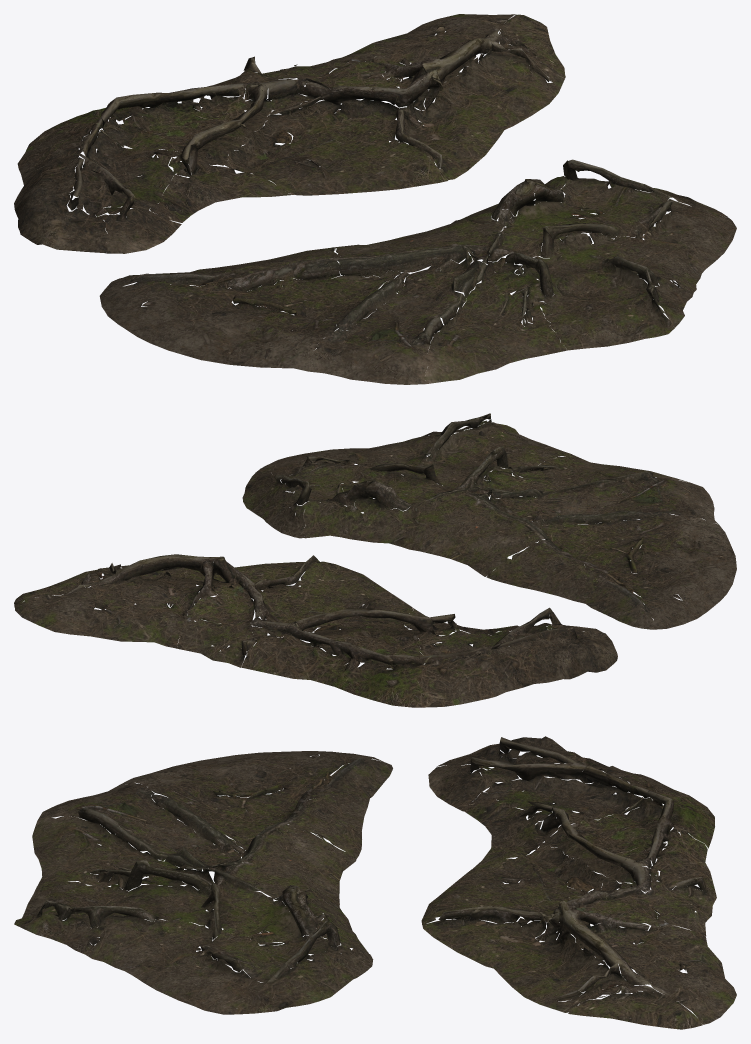
Rendered from pine_roots.glb.
The picture shows the model from 3 angles, top to bottom: view 1: azimuth 30°, elevation 25°; view 2: azimuth 150°, elevation 25°; view 3: azimuth 270°, elevation 25°; orthographic projection. The views are drawn at different scales.
Parts seen in each view (by area): view 1: pine_roots_b, pine_roots_a; view 2: pine_roots_b, pine_roots_a; view 3: pine_roots_b, pine_roots_a.
Part boxes in pixels (x1=…): pine_roots_b: x1=99, y1=159, x2=736, y2=384; pine_roots_a: x1=14, y1=14, x2=565, y2=253; pine_roots_b: x1=242, y1=413, x2=736, y2=629; pine_roots_a: x1=14, y1=554, x2=617, y2=707; pine_roots_b: x1=14, y1=751, x2=392, y2=1014; pine_roots_a: x1=421, y1=736, x2=736, y2=1029.
Bounding box in the file's own units: 1.77 × 0.1557 × 1.89.
2 materials, 2 textured.
